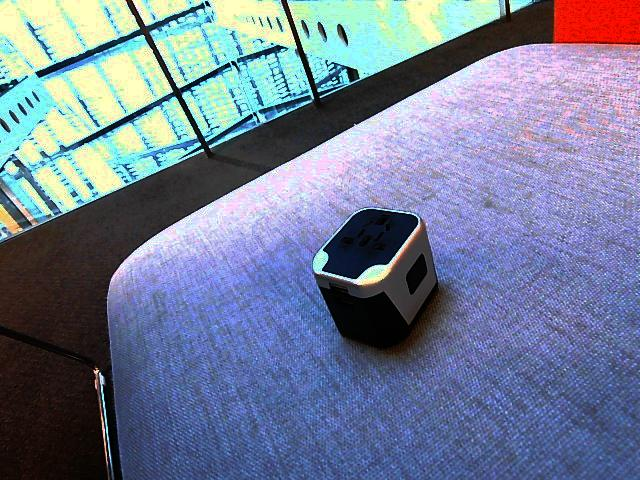adapter: (311, 206, 439, 348)
